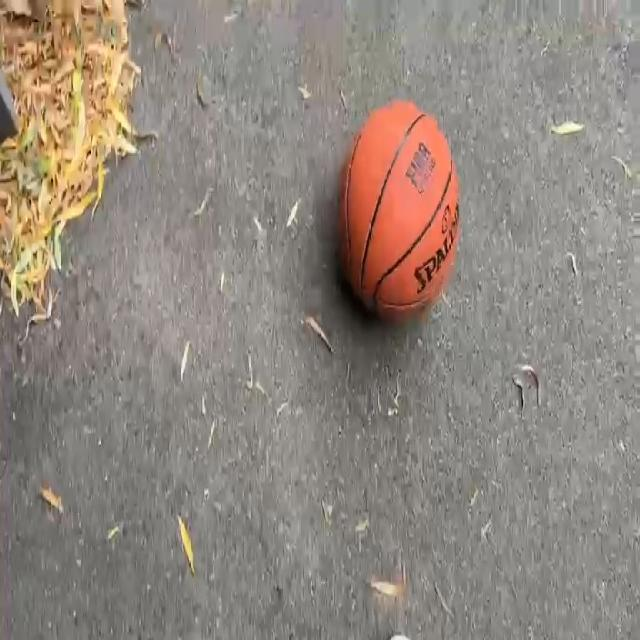Basketball: (340, 102, 459, 324)
